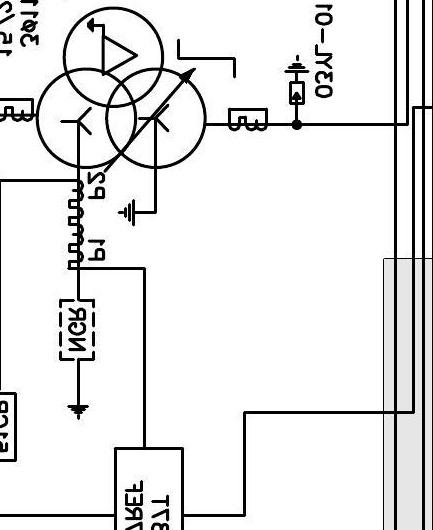11522_tx_ynyn0d1: (34, 5, 208, 170)
115_la: (284, 54, 310, 106)
NGR_future: (58, 298, 96, 420)
